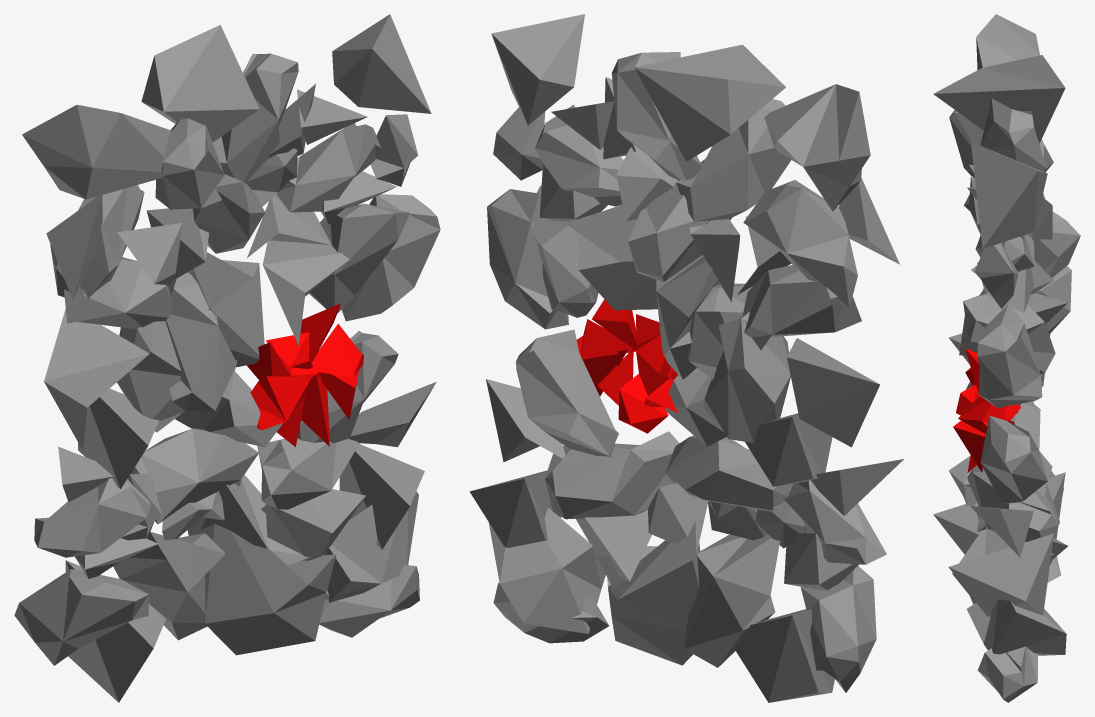
File: explodingDoor2.FBX
3 views of the same model, side by side, from view 1: azimuth 30°, elevation 25°; view 2: azimuth 150°, elevation 25°; view 3: azimuth 270°, elevation 25° (orthographic). The views are drawn at different scales.
Parts seen in each view (by area): view 1: Object058_meshcached_001; view 2: Object058_meshcached_001; view 3: Object058_meshcached_001.
Part boxes in pixels (bbox=[...]): Object058_meshcached_001: bbox=[14, 14, 440, 702]; Object058_meshcached_001: bbox=[469, 14, 903, 702]; Object058_meshcached_001: bbox=[933, 14, 1080, 702].
Size of the model in its own units: 661 by 968 by 234.
